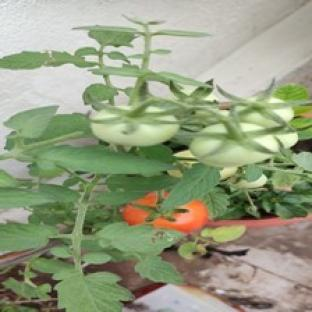Tomato: (190, 123, 278, 167), (91, 106, 179, 146), (151, 201, 207, 233), (239, 98, 293, 128), (233, 175, 267, 189), (175, 151, 197, 167), (275, 133, 299, 147)
